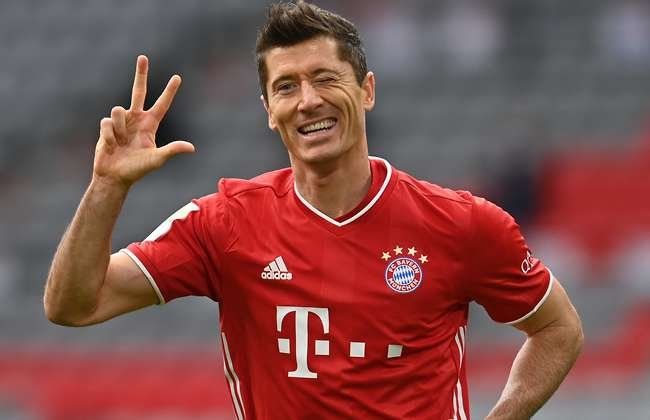NoMask: (270, 63, 350, 161)
